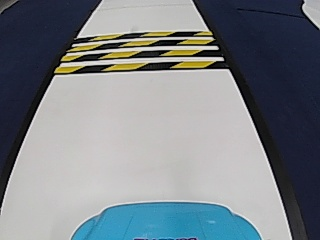bump: (77, 30, 206, 74)
